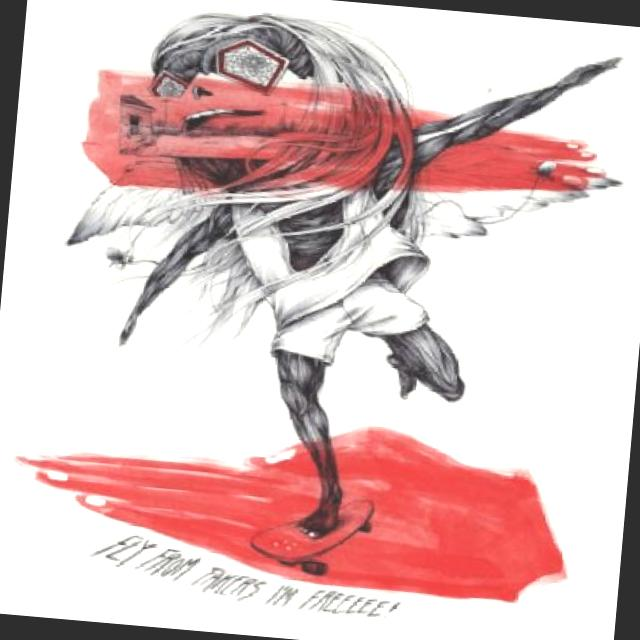Person: (31, 0, 620, 575)
